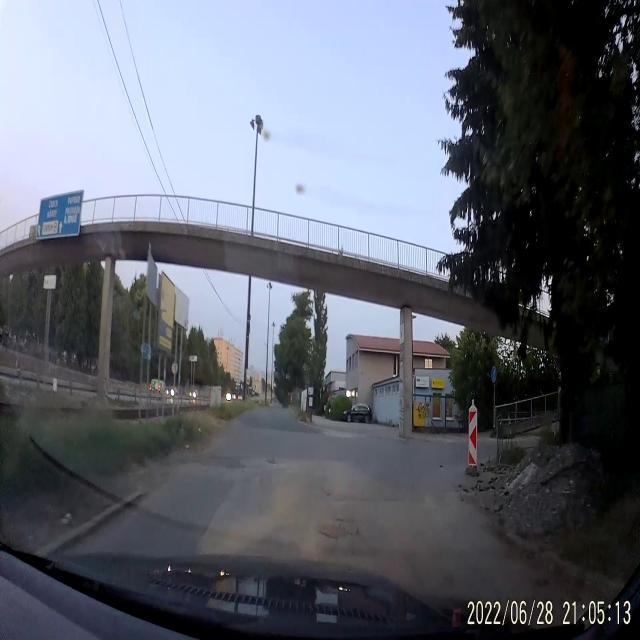Pothole: (319, 514, 361, 550), (262, 454, 278, 467)
